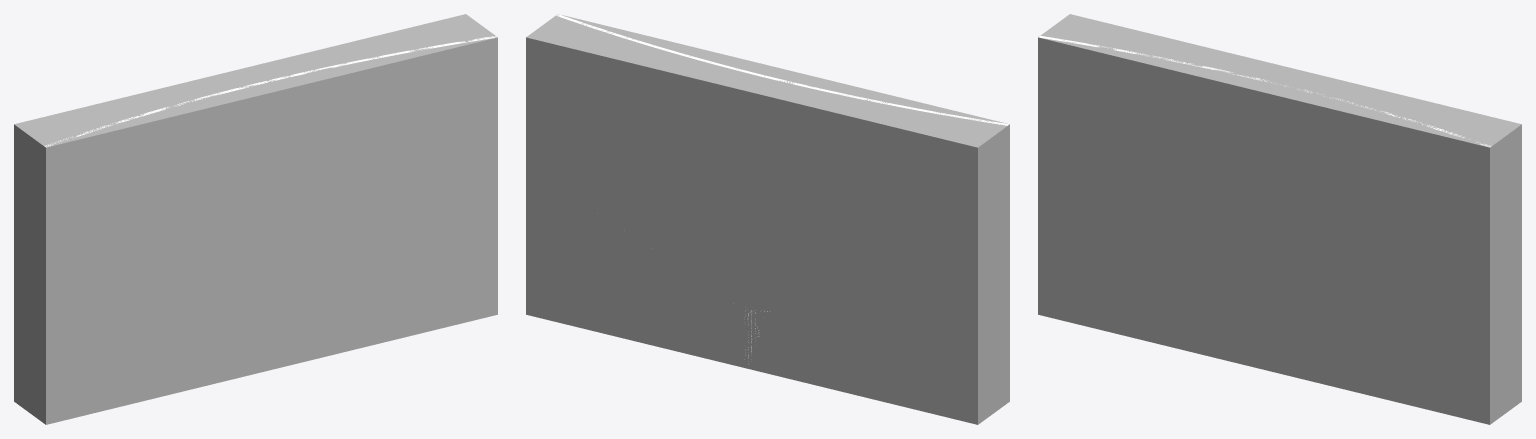
File: SM__TVScreen.fbx
The picture shows the model from 3 angles, left to right: view 1: azimuth 30°, elevation 25°; view 2: azimuth 150°, elevation 25°; view 3: azimuth 330°, elevation 25°; orthographic projection.
Visible parts, largest first — view 1: SM__TVScreen_ConvexHulls, SM__TVScreen; view 2: SM__TVScreen_ConvexHulls, SM__TVScreen; view 3: SM__TVScreen_ConvexHulls, SM__TVScreen.
Boxes of the visible parts, x1,y1,x2,y2 form: SM__TVScreen_ConvexHulls: [14, 14, 497, 424]; SM__TVScreen: [45, 36, 496, 147]; SM__TVScreen_ConvexHulls: [526, 14, 1009, 424]; SM__TVScreen: [556, 14, 1008, 357]; SM__TVScreen_ConvexHulls: [1038, 14, 1521, 424]; SM__TVScreen: [1039, 36, 1491, 147].
Bounding box in the file's own units: 145 × 17.83 × 85.27.
Materials: 3 (1 with a texture image).
